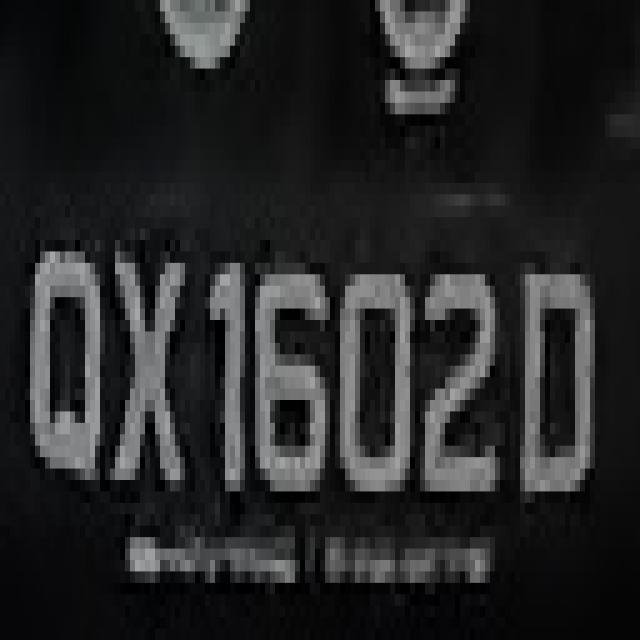0: (335, 194, 420, 537)
1: (205, 217, 260, 526)
2: (400, 240, 510, 549)
6: (260, 240, 335, 560)
D: (505, 194, 590, 526)
Q: (30, 206, 105, 514)
X: (90, 183, 195, 503)
